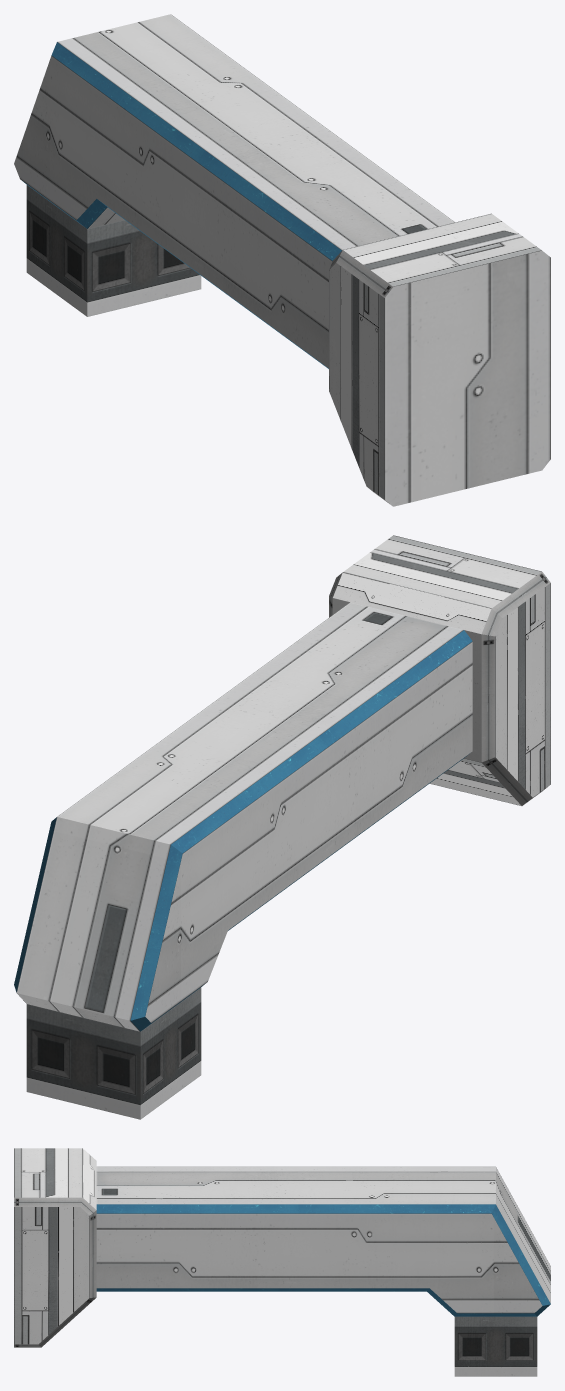
File: Ext_Arch_03.FBX
The picture shows the model from 3 angles, top to bottom: view 1: azimuth 30°, elevation 25°; view 2: azimuth 150°, elevation 25°; view 3: azimuth 270°, elevation 25°; orthographic projection. The views are drawn at different scales.
Visible parts, largest first — view 1: Ext_Arch_03; view 2: Ext_Arch_03; view 3: Ext_Arch_03.
Part boxes in pixels (x1=…): Ext_Arch_03: x1=14, y1=14, x2=550, y2=506; Ext_Arch_03: x1=14, y1=535, x2=550, y2=1119; Ext_Arch_03: x1=14, y1=1148, x2=550, y2=1376.
Size of the model in its own units: 190 by 296 by 780.
